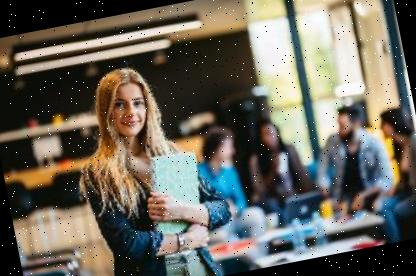person: (61, 52, 226, 276)
